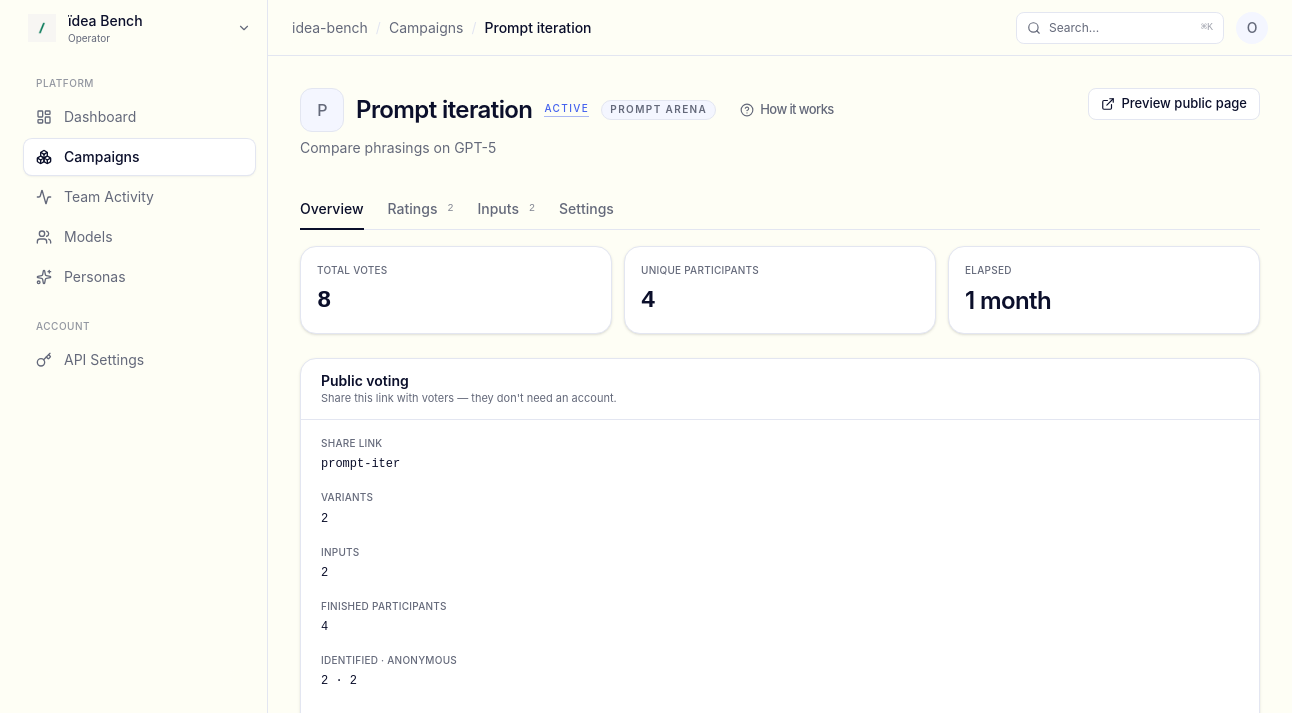
Test: CampaignDashboard › prompt-arena surface (kind='prompt') › lazily fetches outputs when a drilldown row is clicked
The image size is (1292, 713).
Step 1. Click the tab "Ratings 2" → (420, 210), box [388,190,453,230]
(page scrolled)
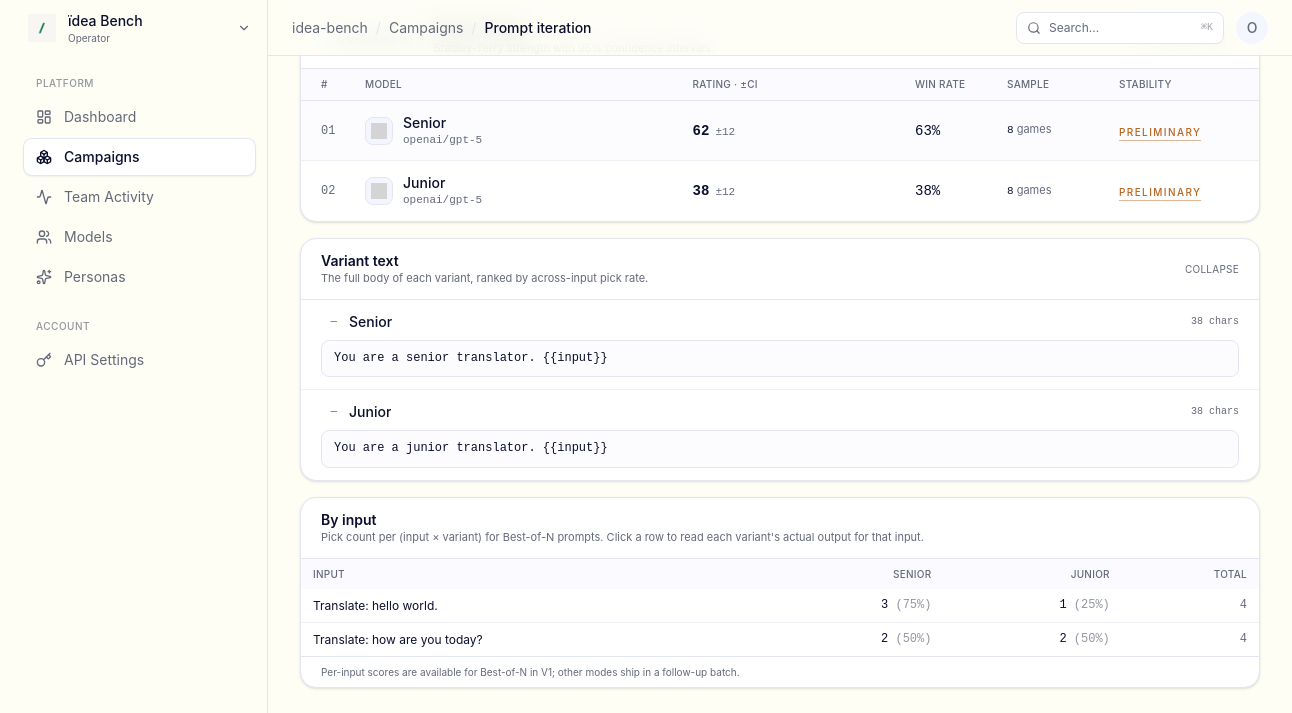
Step 2. Click the text "Translate: hello world. 3 (75%) 1 (25%) 4" → (780, 606), box [301,589,1259,622]
(page scrolled)
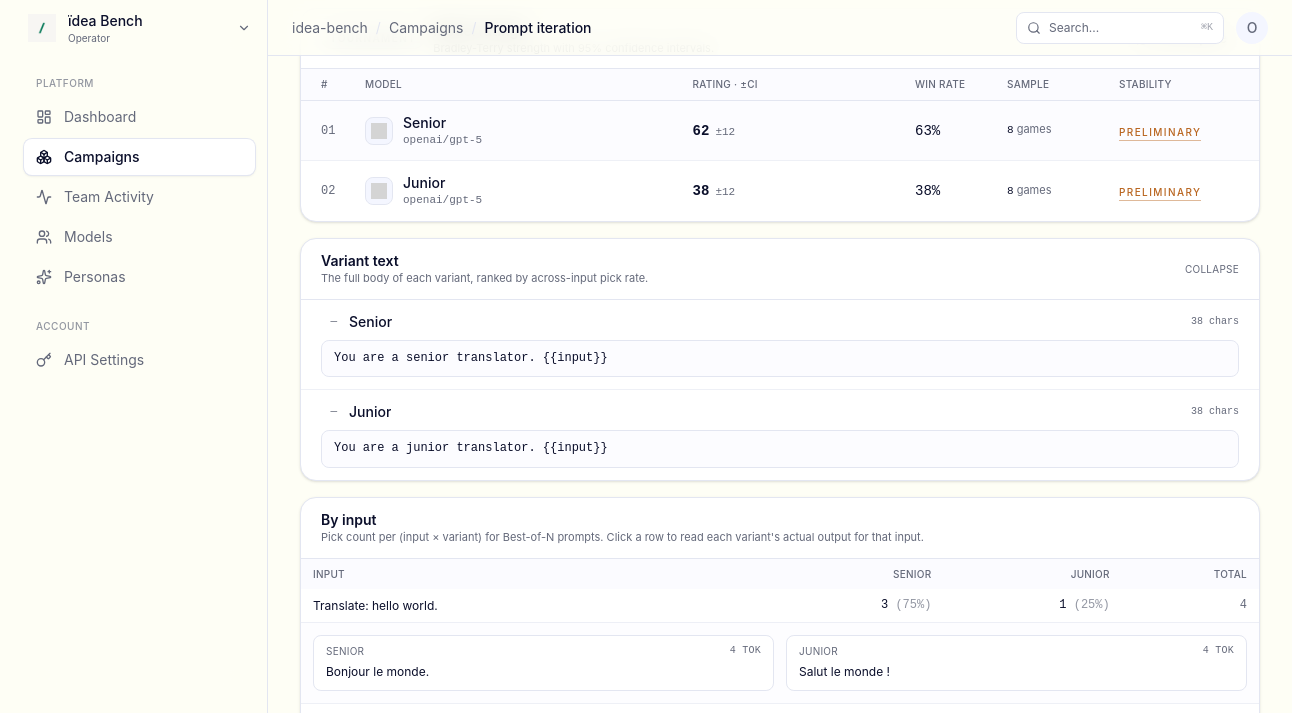
Check: the text "Bonjour le monde." is shown, box [326,664,429,679]
Check: the text "Salut le monde !" is shown, box [799,664,890,679]
